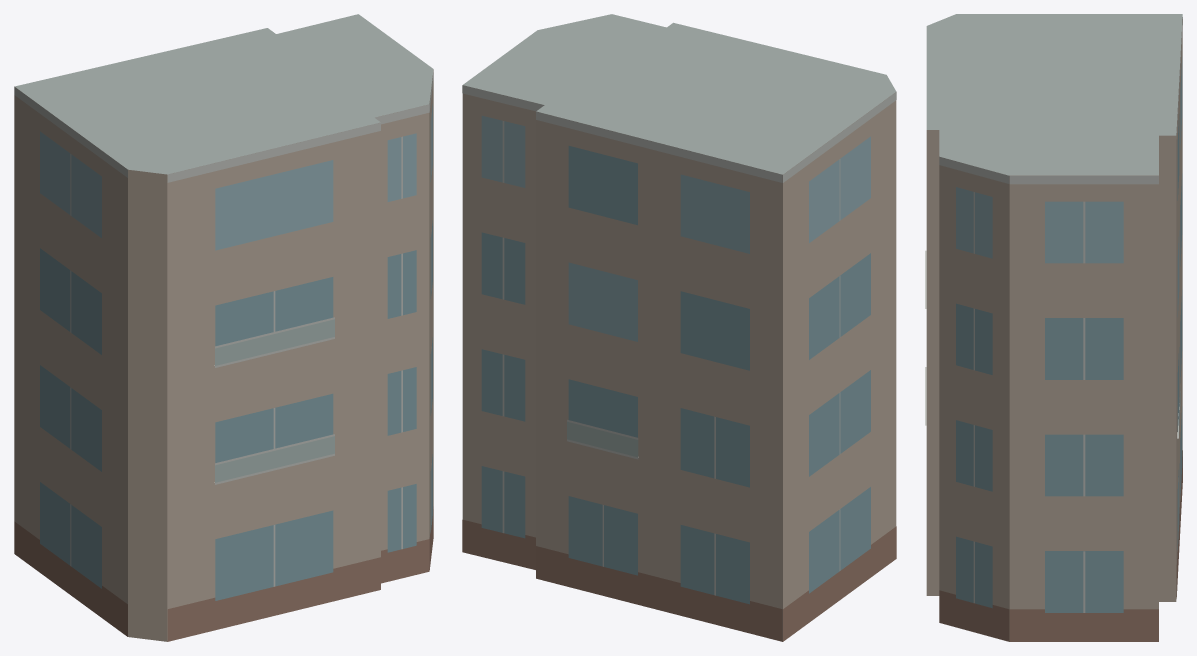
File: survey-upis-33031359.glb
3 renders of one model, left to right at view 1: azimuth 30°, elevation 25°; view 2: azimuth 150°, elevation 25°; view 3: azimuth 270°, elevation 25°, orthographic.
Parts seen in each view (by area): view 1: survey-upis-33031359.tmp; view 2: survey-upis-33031359.tmp; view 3: survey-upis-33031359.tmp.
Part boxes in pixels (x1=…): survey-upis-33031359.tmp: x1=14, y1=14, x2=433, y2=641; survey-upis-33031359.tmp: x1=462, y1=14, x2=896, y2=641; survey-upis-33031359.tmp: x1=925, y1=14, x2=1182, y2=641.
Bounding box in the file's own units: 10.1 × 13.55 × 6.8.
